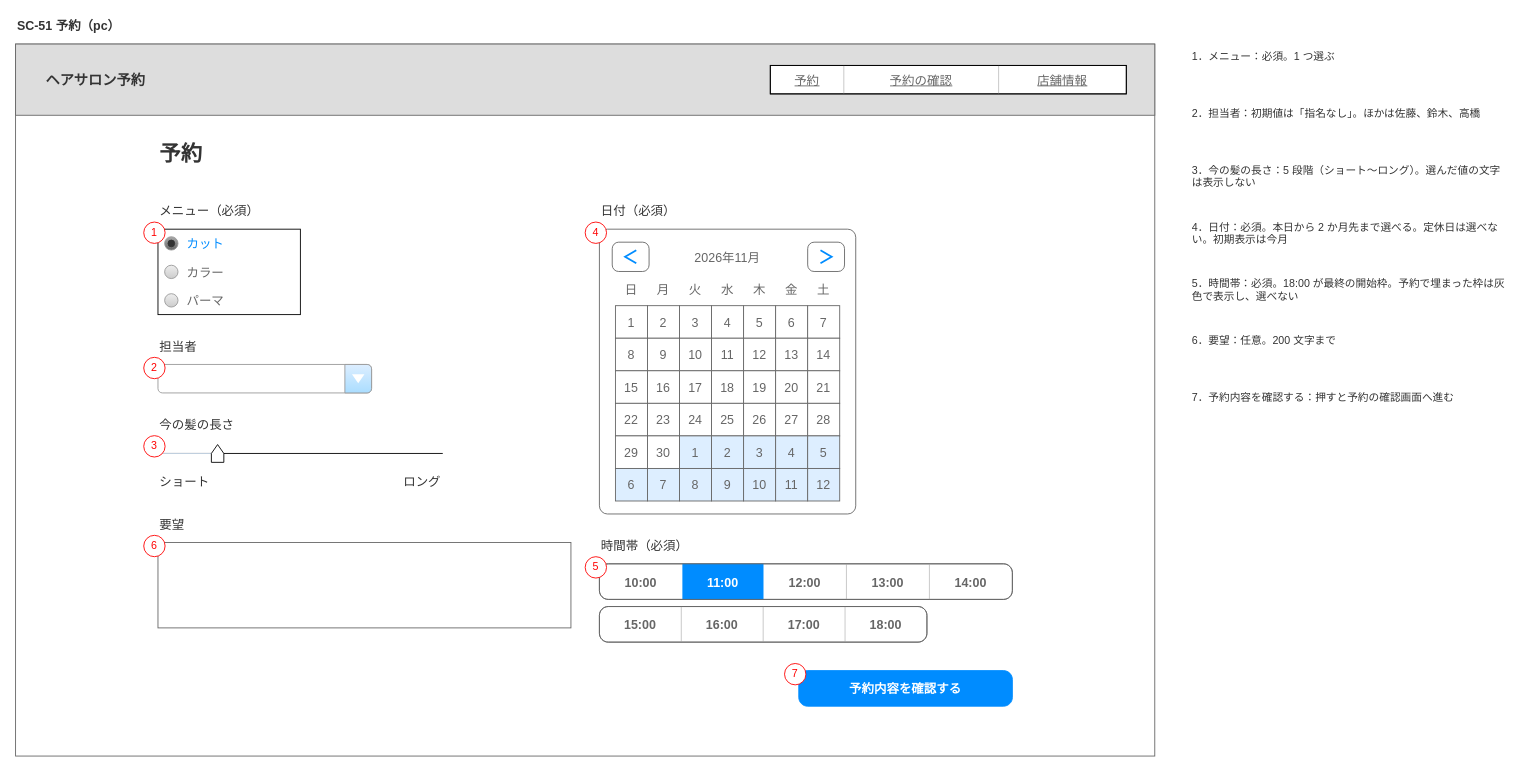
This 1526x772 diagram has some shape labels left out. Here are the shapes that lost their labels. From the top down, the box of each, then its label:
(157, 364, 372, 393): 指名なし
(157, 542, 571, 628): 例：前髪は短めにしたい
